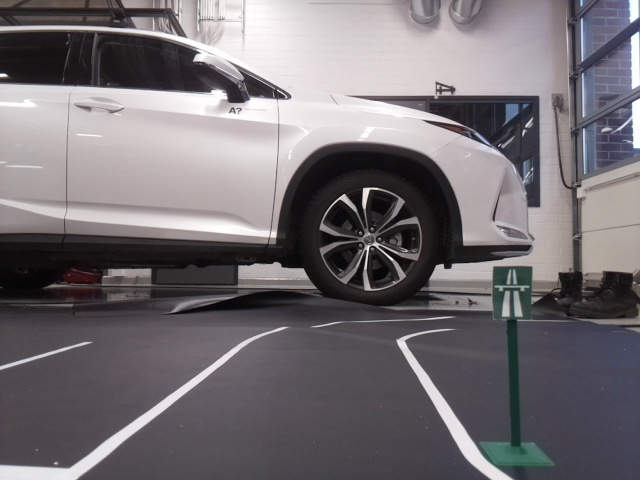HighwayEntrance: (495, 268, 529, 318)
